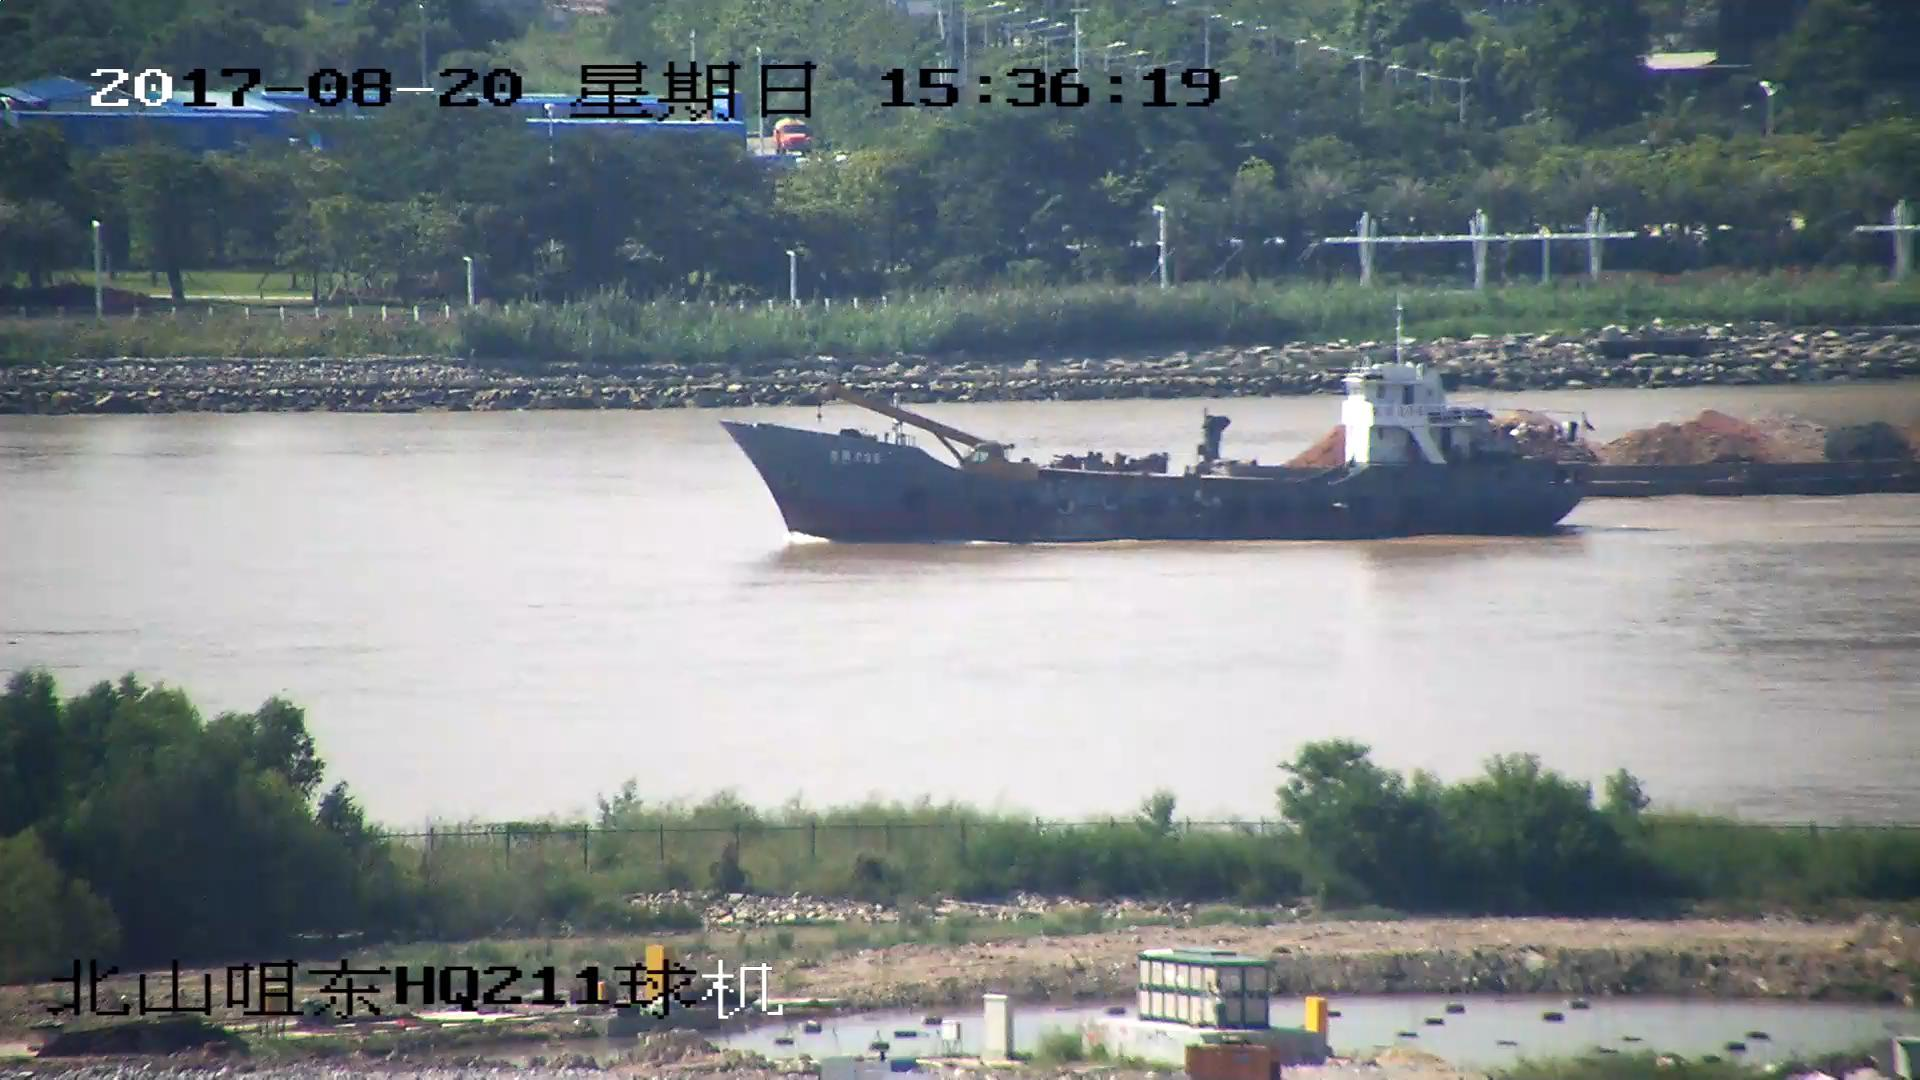Ship: (724, 302, 1585, 543), (1182, 392, 1920, 495)
